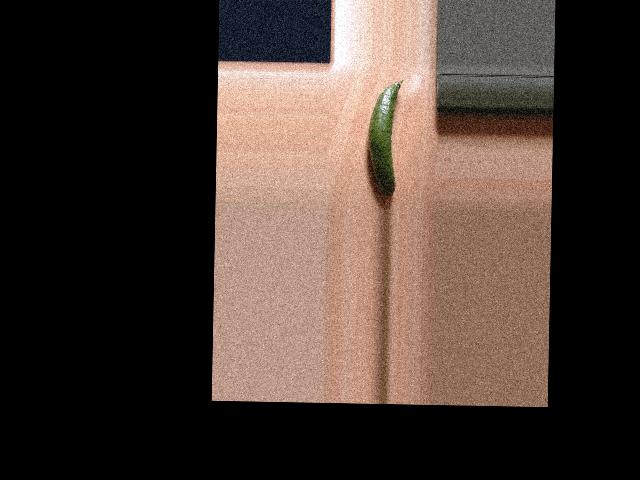cucumber: (366, 78, 403, 197)
